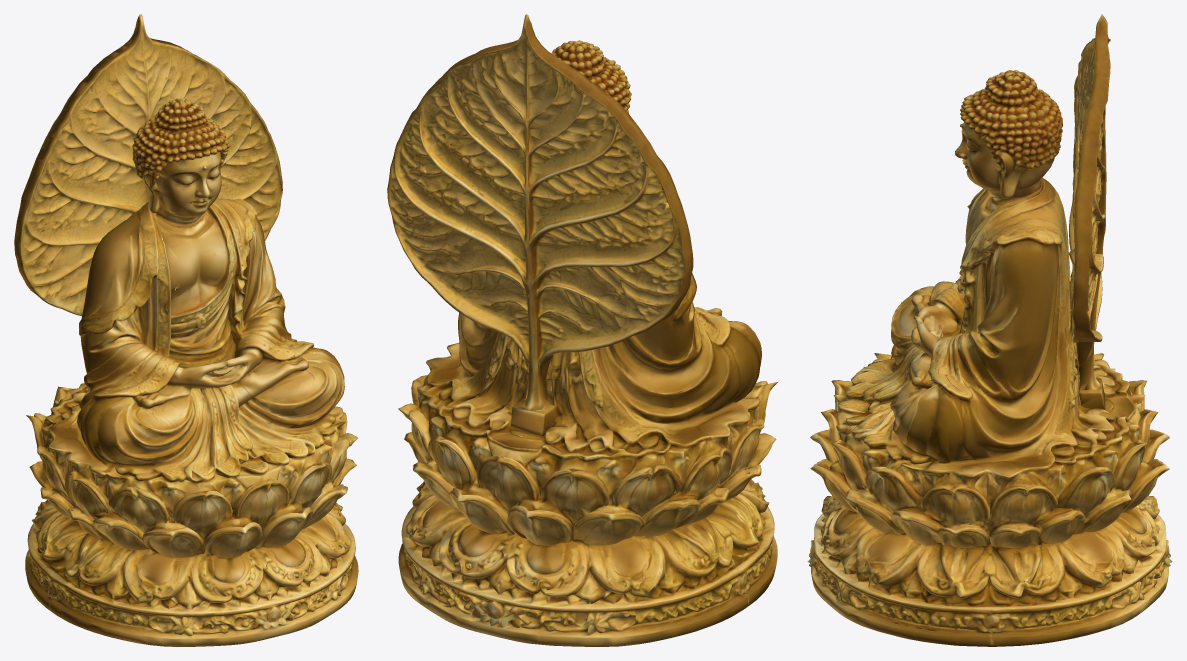
3 views of the same model, side by side, from view 1: azimuth 30°, elevation 25°; view 2: azimuth 150°, elevation 25°; view 3: azimuth 270°, elevation 25° (orthographic). The views are drawn at different scales.
Visible parts, largest first — view 1: four-heavenly-kings-01; view 2: four-heavenly-kings-01; view 3: four-heavenly-kings-01.
Boxes of the visible parts, x1=… form: four-heavenly-kings-01: x1=14, y1=14, x2=358, y2=646; four-heavenly-kings-01: x1=387, y1=14, x2=777, y2=646; four-heavenly-kings-01: x1=807, y1=14, x2=1172, y2=646.
Bounding box in the file's own units: 0.5641 × 1 × 0.5902.
1 material, 1 textured.
